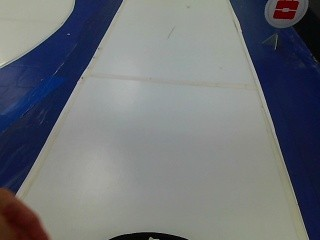company: (260, 0, 316, 28)
